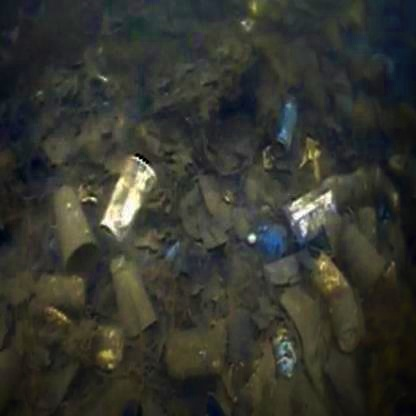can: (99, 150, 161, 252)
pbottle: (267, 82, 297, 163)
